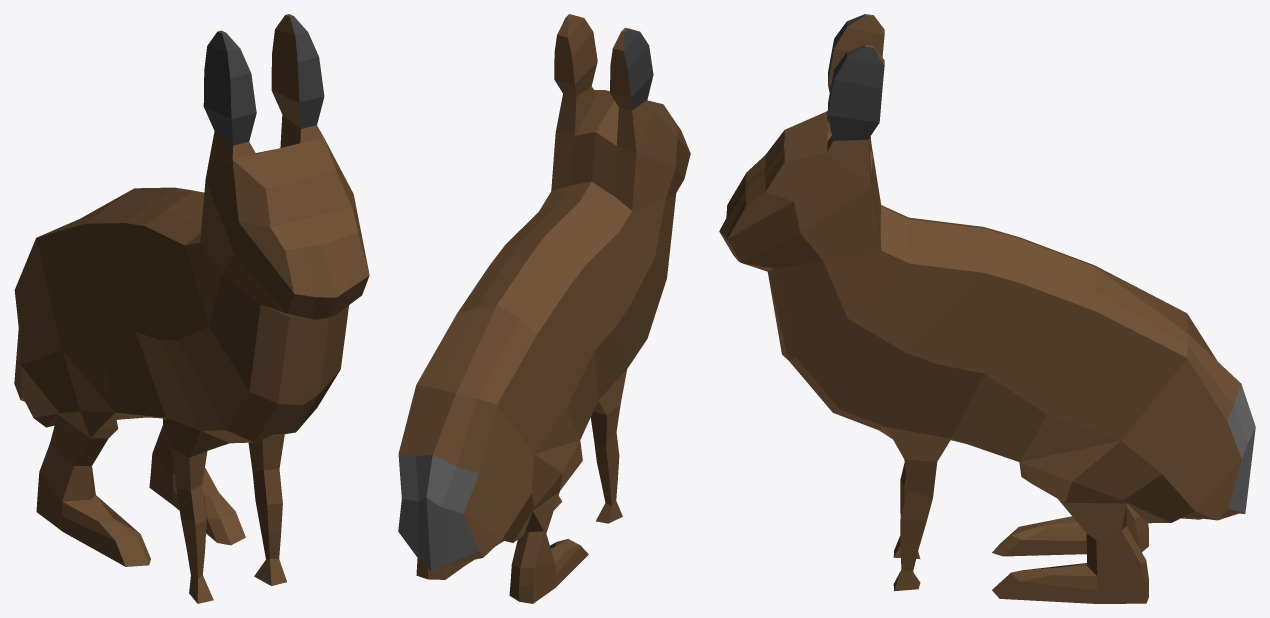
File: Harecoloranim.dae
The picture shows the model from 3 angles, left to right: view 1: azimuth 30°, elevation 25°; view 2: azimuth 150°, elevation 25°; view 3: azimuth 270°, elevation 25°; orthographic projection. The views are drawn at different scales.
Visible parts, largest first — view 1: Plane; view 2: Plane; view 3: Plane.
Boxes of the visible parts, x1,y1,x2,y2 form: Plane: [14, 14, 369, 603]; Plane: [398, 14, 690, 603]; Plane: [719, 14, 1255, 603].
Size of the model in its own units: 0.5424 by 1.74 by 1.93.
